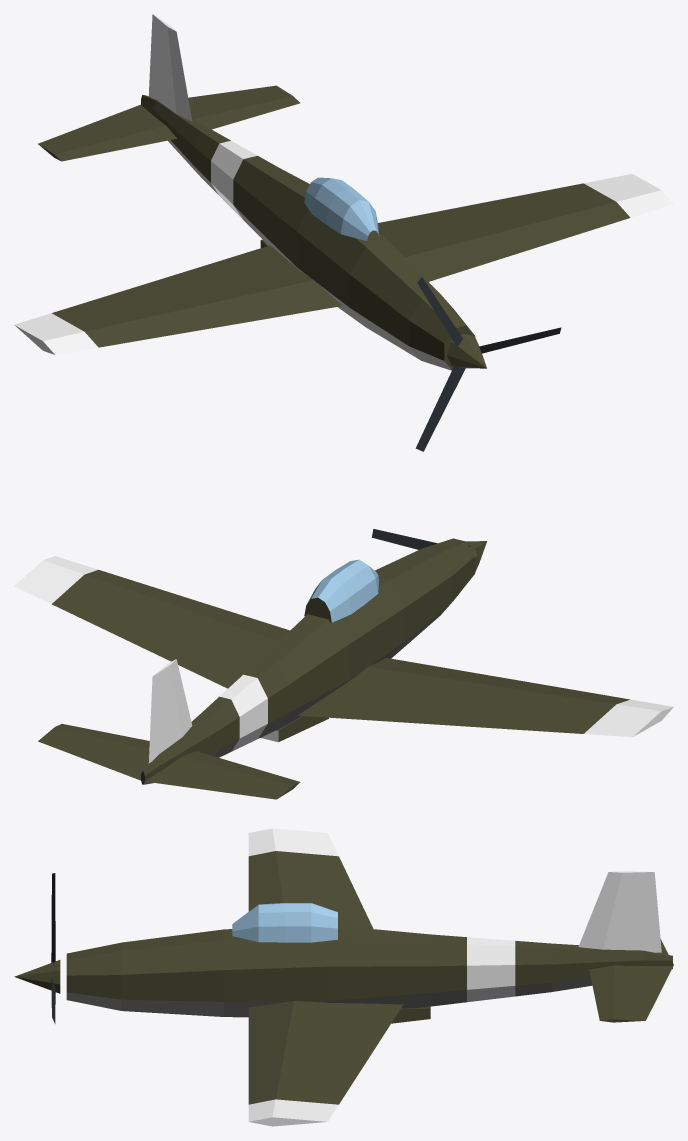
The picture shows the model from 3 angles, top to bottom: view 1: azimuth 30°, elevation 25°; view 2: azimuth 150°, elevation 25°; view 3: azimuth 270°, elevation 25°; orthographic projection. The views are drawn at different scales.
Parts seen in each view (by area): view 1: body, prop; view 2: body, prop; view 3: body, prop.
Boxes of the visible parts, box(x1,y1,x2,y2) form: body: box(14, 14, 673, 370); prop: box(415, 277, 561, 451); body: box(14, 538, 673, 799); prop: box(371, 529, 486, 571); body: box(66, 828, 673, 1126); prop: box(14, 873, 60, 1023).
Size of the model in its own units: 10.36 by 3.15 by 10.
